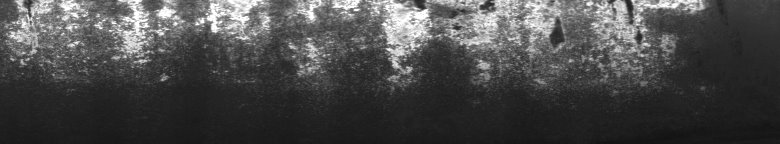kb: (4, 4, 680, 95)
